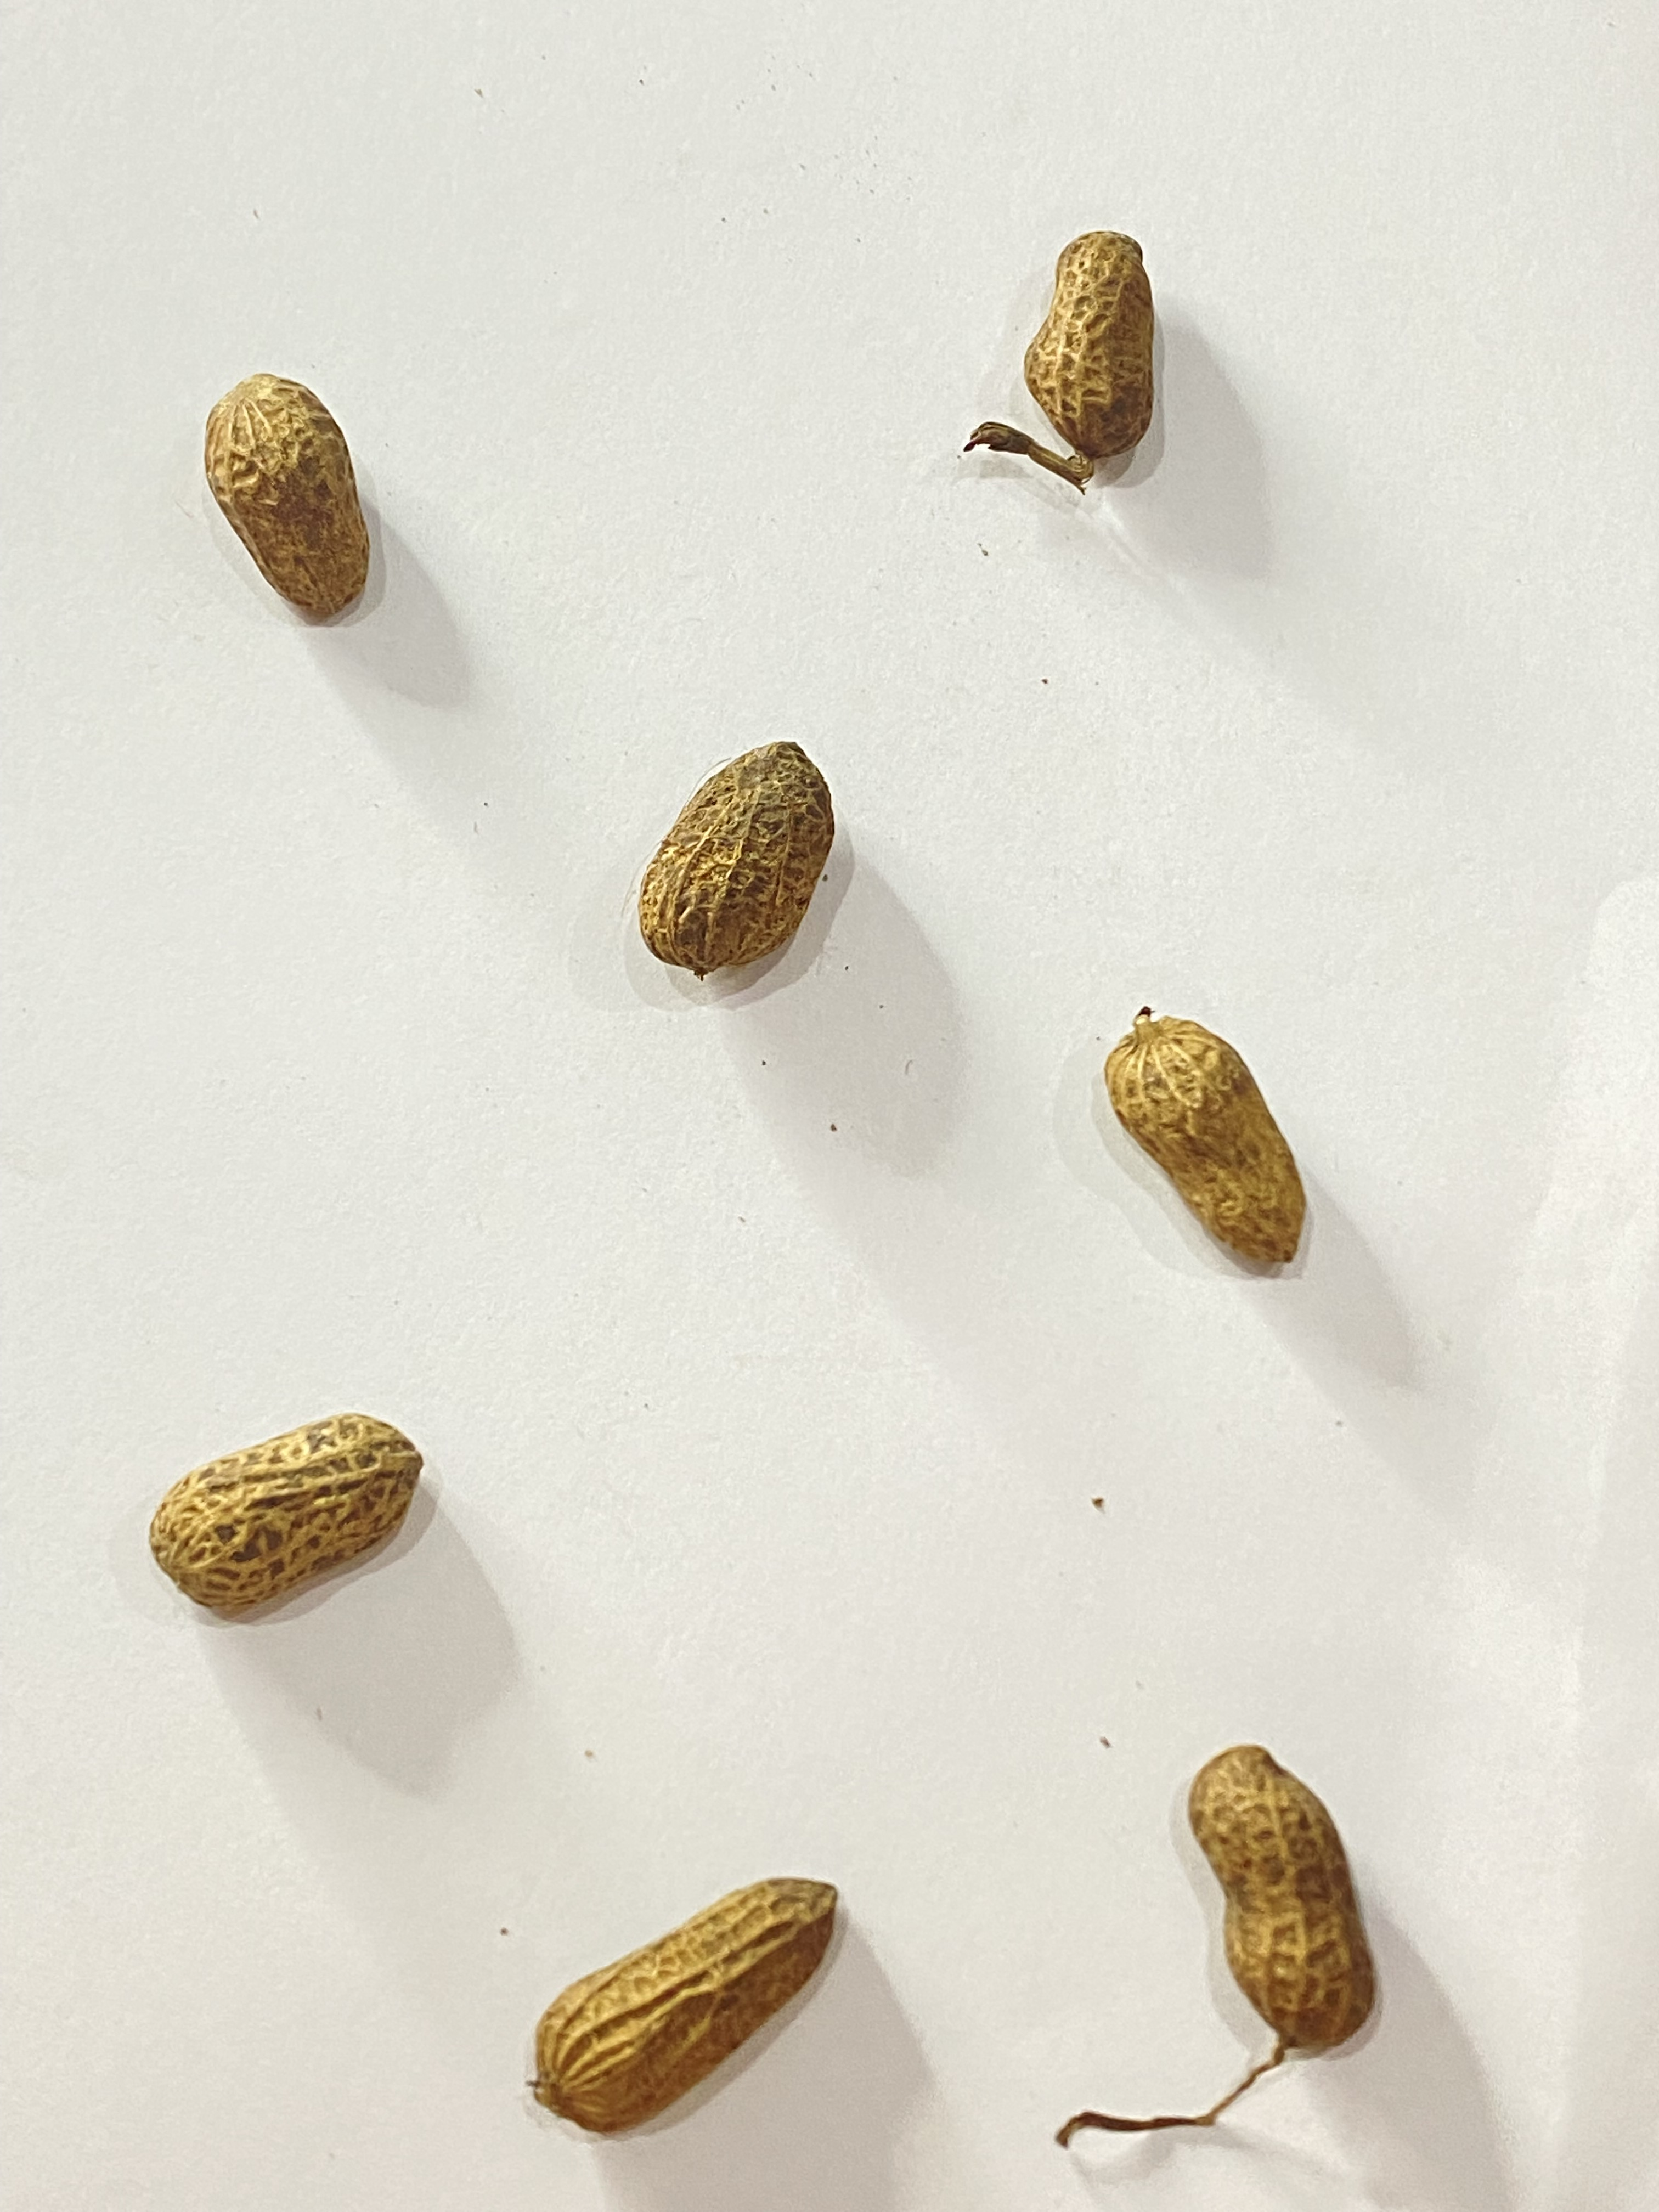kacang1: (626, 695, 875, 1000), (1002, 197, 1197, 489)
kacang2: (1140, 1733, 1497, 2057), (512, 1843, 910, 2127), (1061, 975, 1335, 1305), (98, 1414, 533, 1620), (159, 376, 389, 625)
